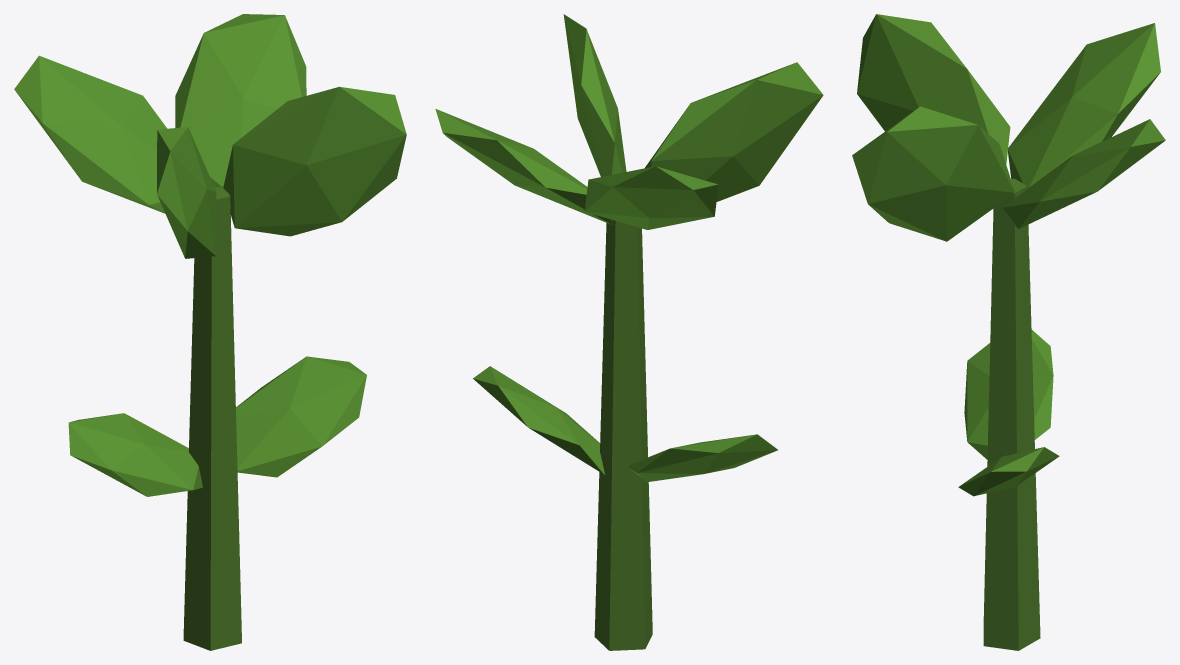
Rendered from TomatoPlant01.fbx.
The picture shows the model from 3 angles, left to right: view 1: azimuth 30°, elevation 25°; view 2: azimuth 150°, elevation 25°; view 3: azimuth 270°, elevation 25°; orthographic projection. The views are drawn at different scales.
Visible parts, largest first — view 1: TomatoPlant01; view 2: TomatoPlant01; view 3: TomatoPlant01.
Part boxes in pixels (box(x1,y1,x2,y2)): TomatoPlant01: box(14, 14, 406, 650); TomatoPlant01: box(435, 14, 823, 650); TomatoPlant01: box(852, 14, 1165, 650).
Size of the model in its own units: 0.1314 by 0.2406 by 0.1195.
